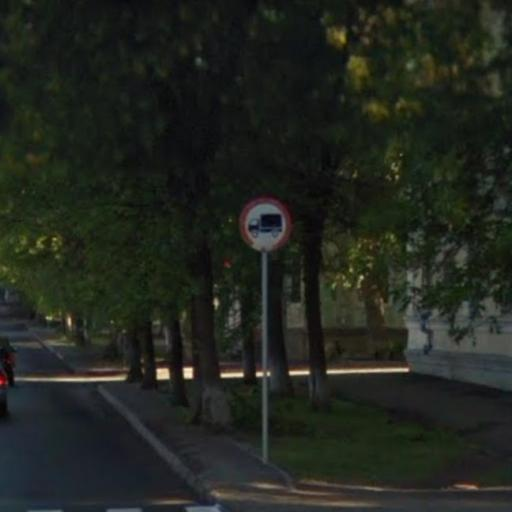traffic_sign: (236, 192, 298, 259)
